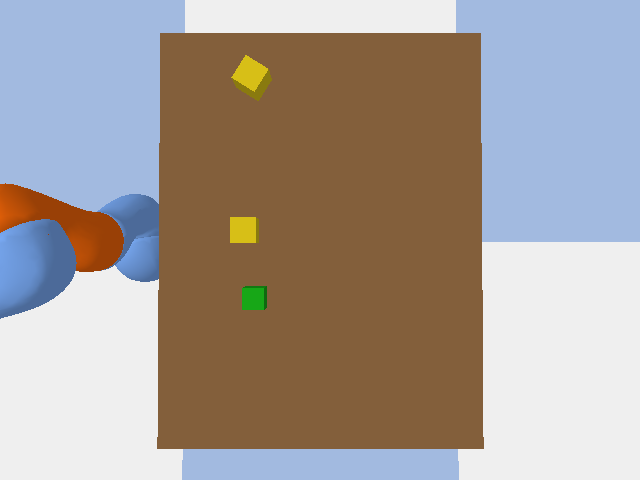green_obj: (242, 286, 266, 309)
yellow_obj: (231, 55, 271, 100), (230, 217, 258, 242)
